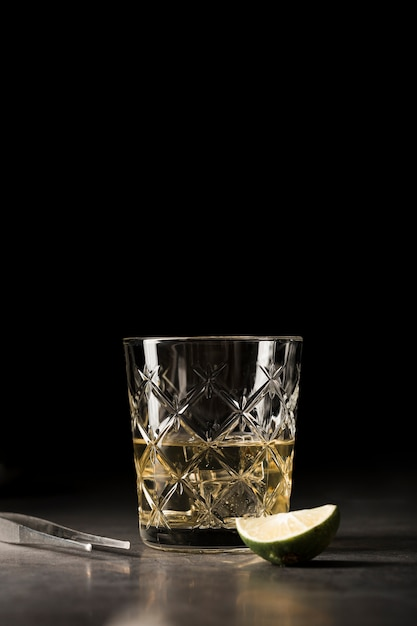alcohol: (113, 331, 320, 555)
